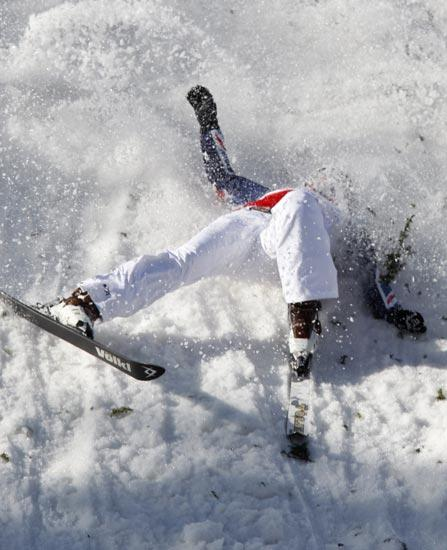fall: (47, 66, 441, 432)
